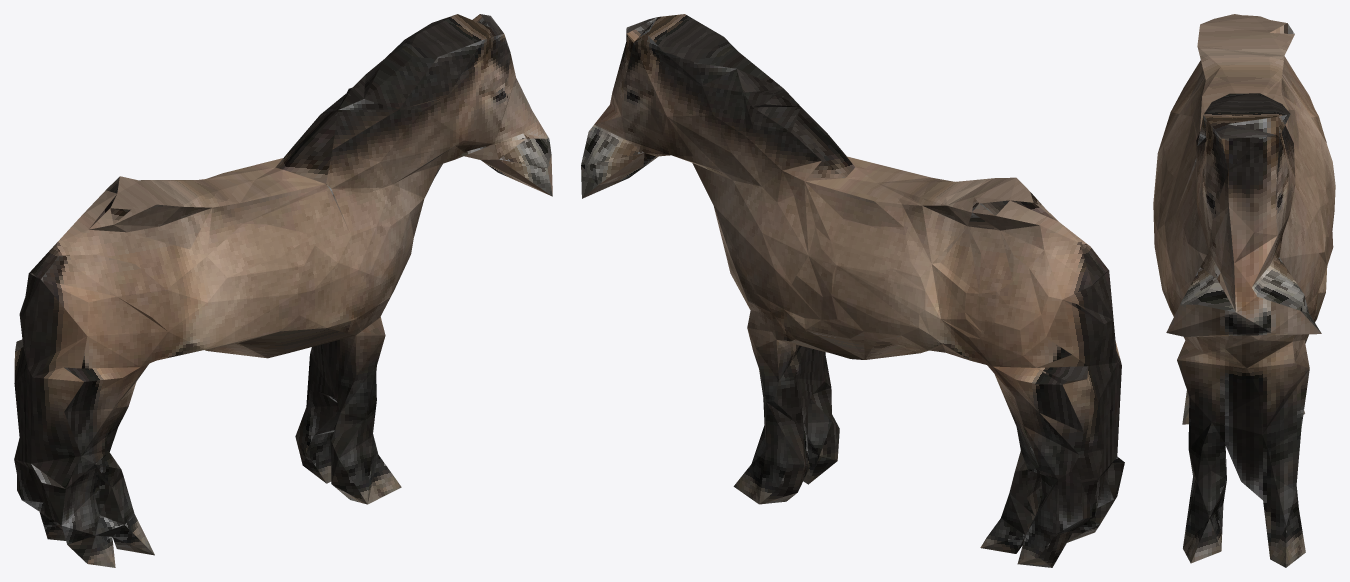
Rendered from caballo_2.glb.
The picture shows the model from 3 angles, left to right: view 1: azimuth 30°, elevation 25°; view 2: azimuth 150°, elevation 25°; view 3: azimuth 270°, elevation 25°; orthographic projection. The views are drawn at different scales.
Visible parts, largest first — view 1: animal.montura.caballo_estepario; view 2: animal.montura.caballo_estepario; view 3: animal.montura.caballo_estepario.
Boxes of the visible parts, box(x1,y1,x2,y2) form: animal.montura.caballo_estepario: box(14, 14, 552, 567); animal.montura.caballo_estepario: box(581, 14, 1124, 567); animal.montura.caballo_estepario: box(1153, 14, 1335, 567).
Bounding box in the file's own units: 2.39 × 1.89 × 0.6101.
Materials: 1 (1 with a texture image).
